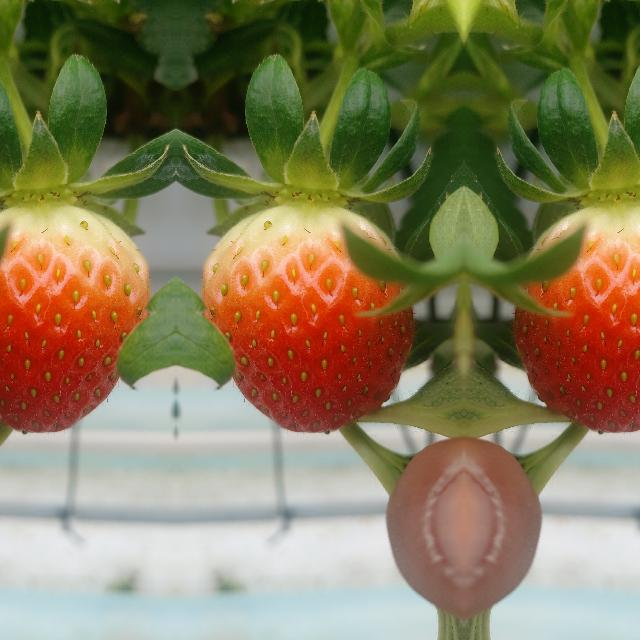Health_100: (200, 205, 412, 433), (0, 205, 150, 433), (513, 205, 640, 433)
